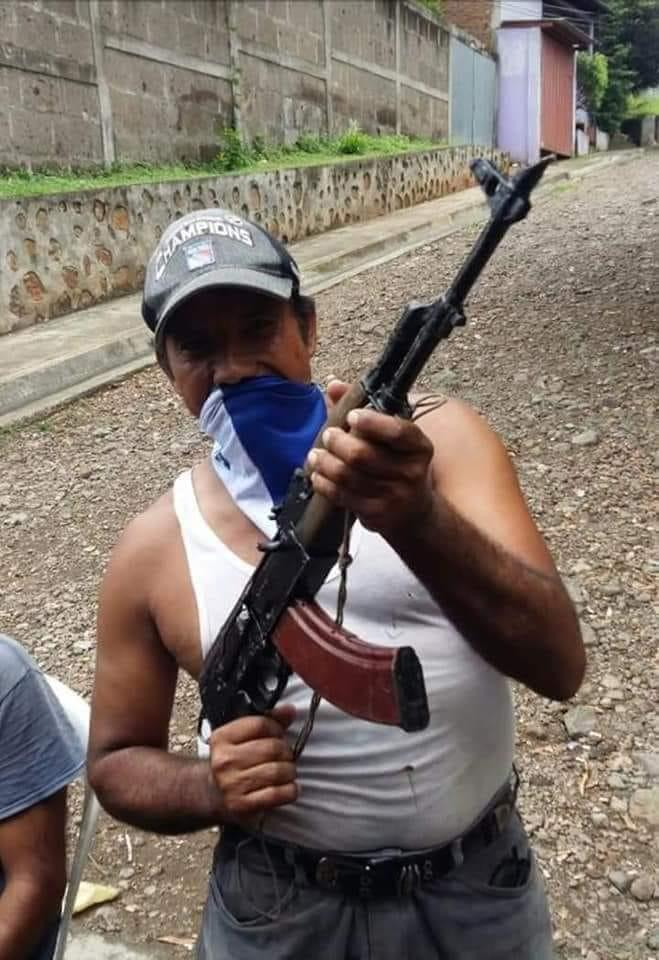larga: (191, 156, 552, 747)
